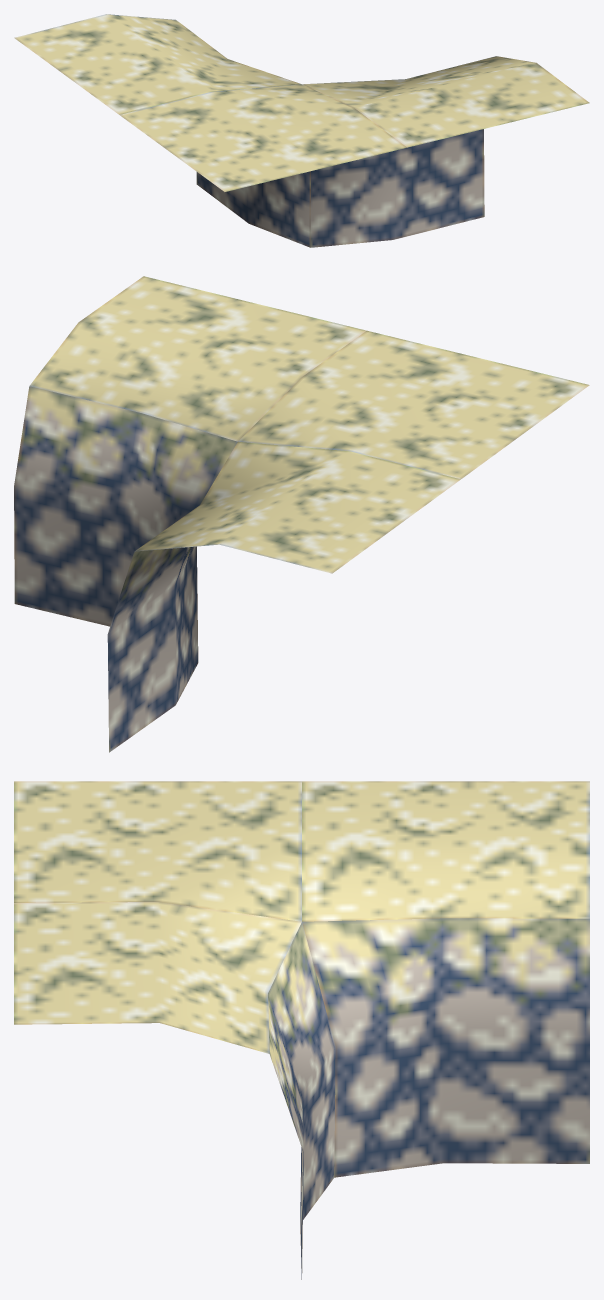
The model's file is sandCTile_innerCorner_lowerLeft.fbx.
3 renders of one model, top to bottom at view 1: azimuth 30°, elevation 25°; view 2: azimuth 150°, elevation 25°; view 3: azimuth 270°, elevation 25°, orthographic. The views are drawn at different scales.
Visible parts, largest first — view 1: sandCTile_innerCorner_lowerLeft; view 2: sandCTile_innerCorner_lowerLeft; view 3: sandCTile_innerCorner_lowerLeft.
Part boxes in pixels (bbox=[...]): sandCTile_innerCorner_lowerLeft: bbox=[14, 14, 589, 247]; sandCTile_innerCorner_lowerLeft: bbox=[14, 276, 589, 752]; sandCTile_innerCorner_lowerLeft: bbox=[14, 781, 589, 1279].
Bounding box in the file's own units: 2 × 1.01 × 2.
